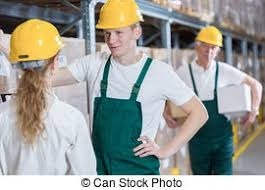helmet: (6, 17, 67, 65), (94, 1, 146, 31), (194, 25, 224, 49)
person with partial safety: (1, 17, 98, 175), (89, 1, 168, 161), (184, 25, 235, 175)
